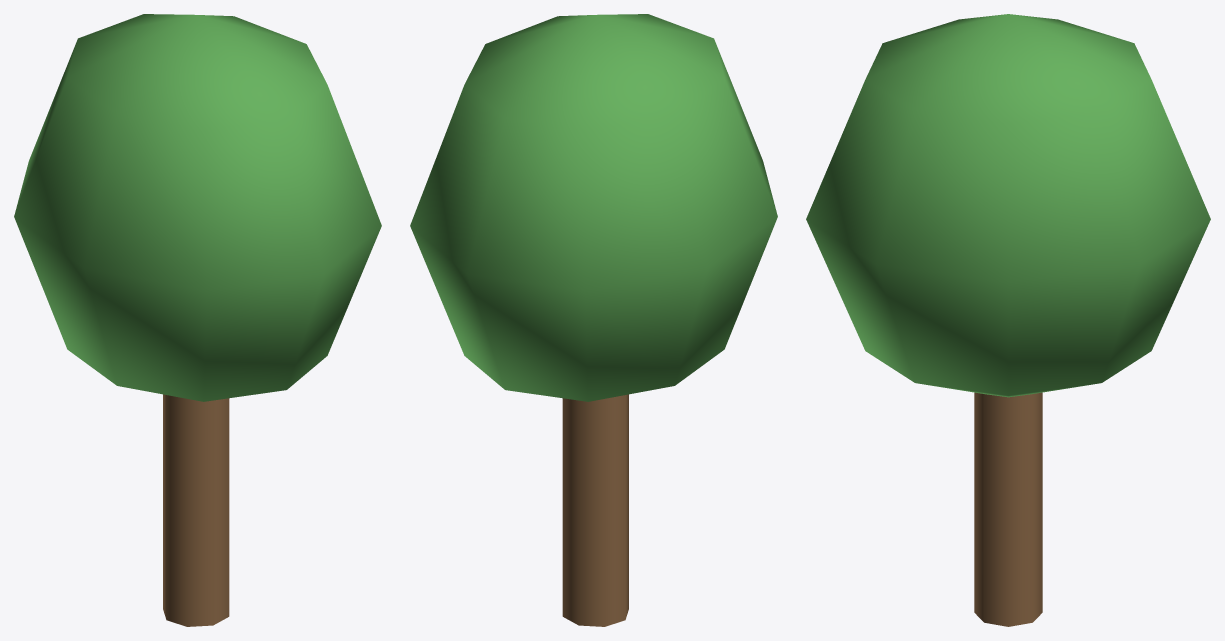
File: tree_deciduous_03.glb
The picture shows the model from 3 angles, left to right: view 1: azimuth 30°, elevation 25°; view 2: azimuth 150°, elevation 25°; view 3: azimuth 270°, elevation 25°; orthographic projection.
Bounding box in the file's own units: 0.5625 × 1.06 × 0.65.
